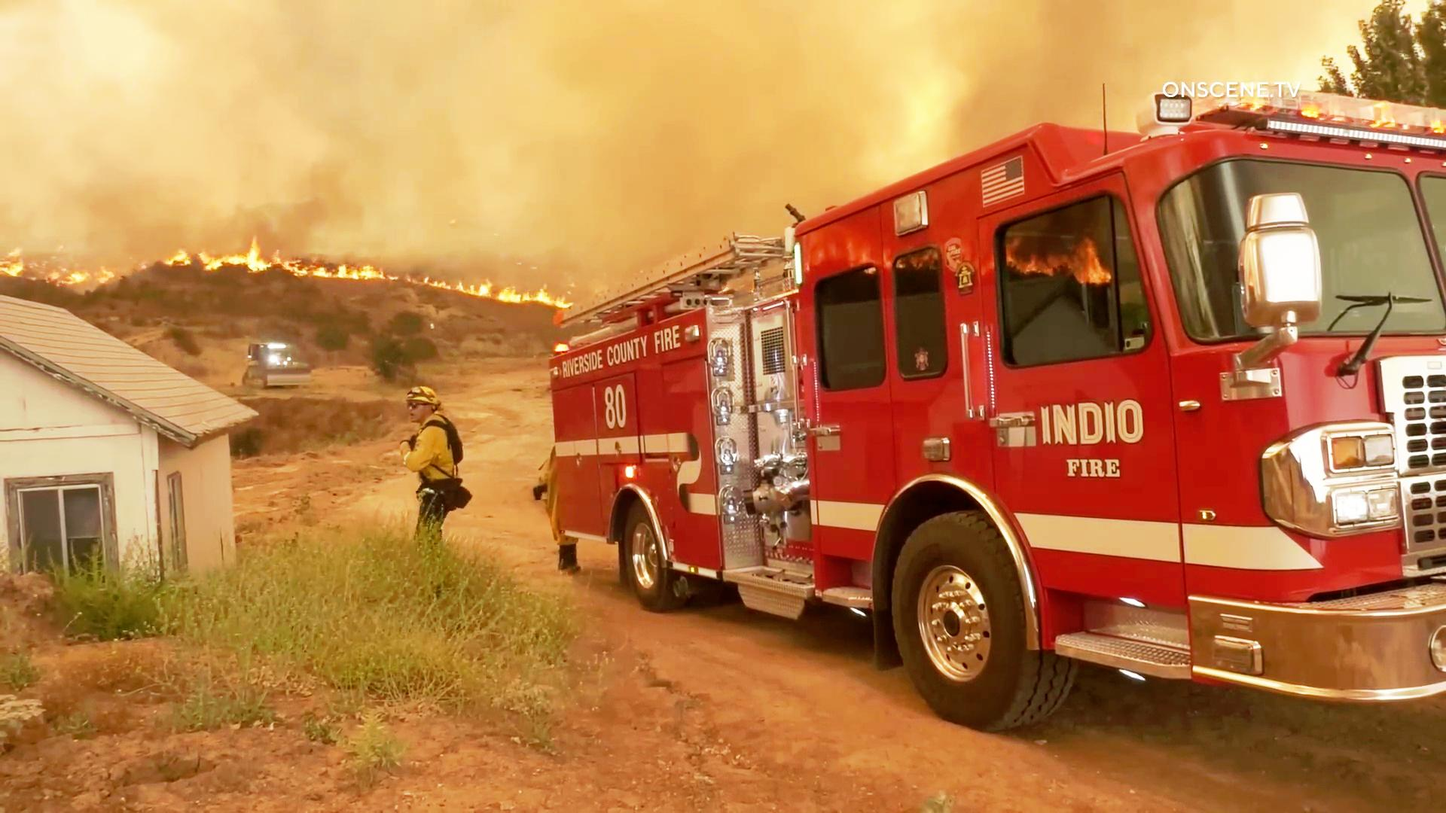fire: (177, 234, 389, 293)
